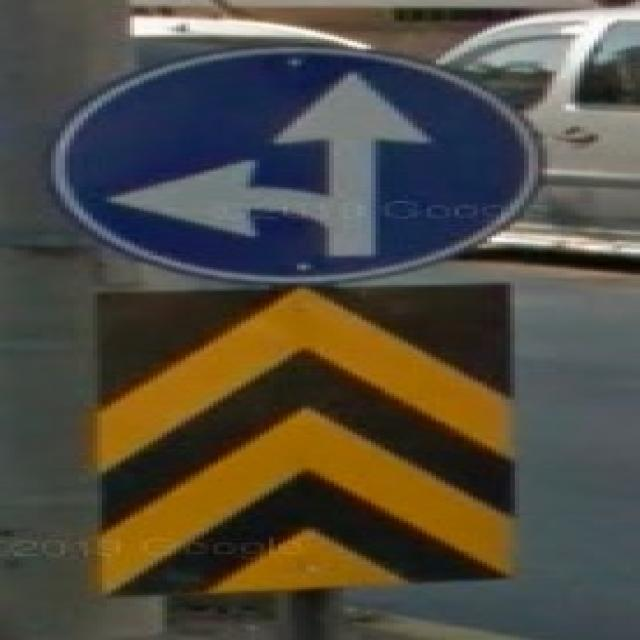Straight or Left: (45, 47, 546, 285)
